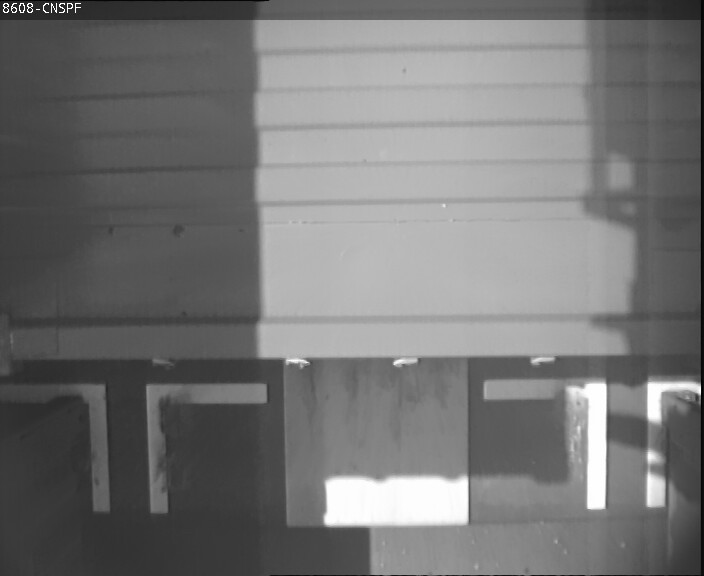groundmarker_1: (1, 380, 264, 511), (480, 378, 704, 509)
